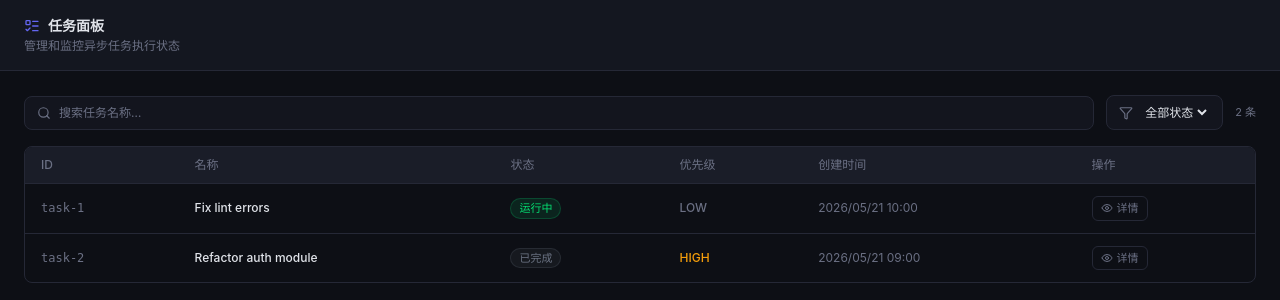
TaskPanelView › filters tasks by search input
Expected: the text "Fix lint errors" is shown, [179,184,494,233]
Expected: the text "Refactor auth module" is shown, [179,233,494,282]
Type "Refactor" into the field with placeholder "搜索任务名称…".
click(570, 112); type("Refactor")  # box [59,104,1081,120]
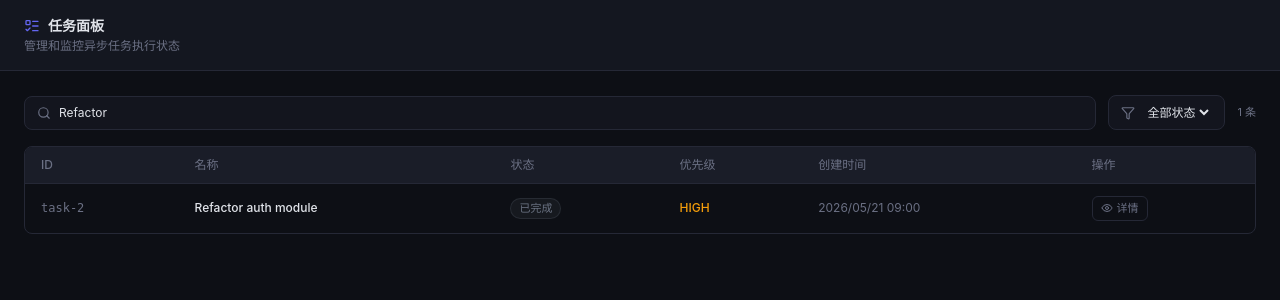
Expected: the text "Refactor auth module" is shown, [179,184,494,233]
Expected: the text "Fix lint errors" is gone
